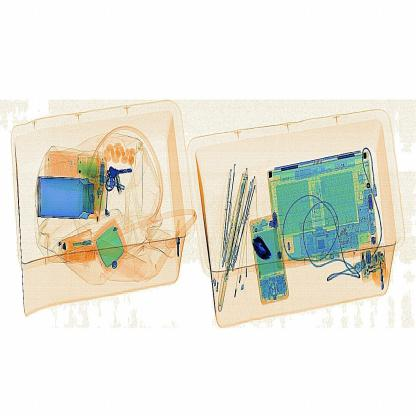scissors: (247, 230, 283, 265)
